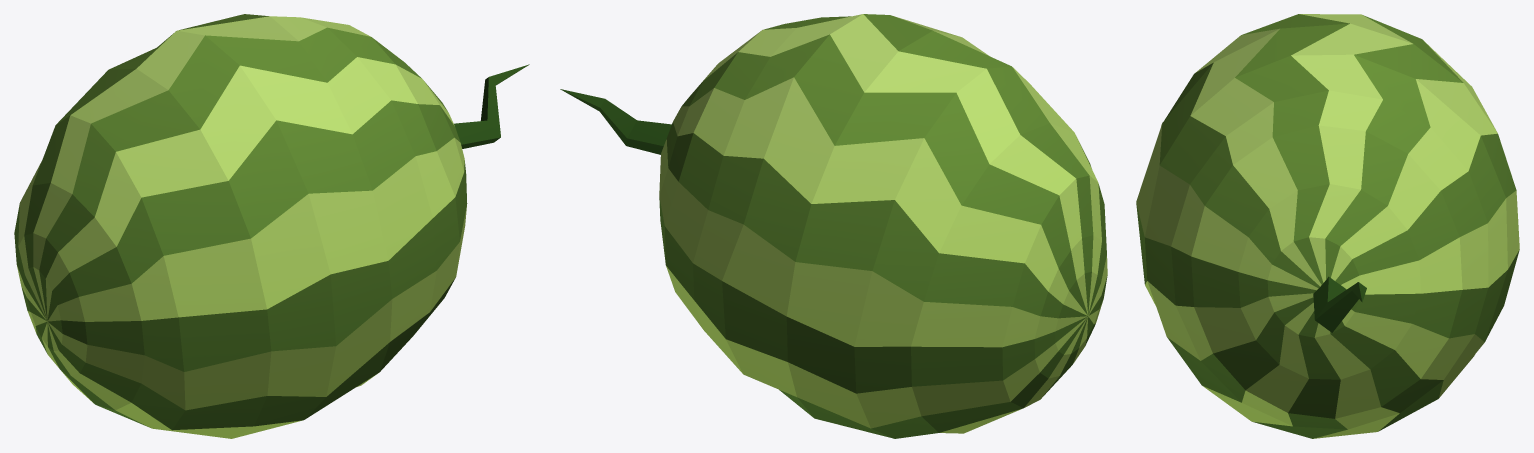
The model's file is watermelon.glb.
The picture shows the model from 3 angles, left to right: view 1: azimuth 30°, elevation 25°; view 2: azimuth 150°, elevation 25°; view 3: azimuth 270°, elevation 25°; orthographic projection.
Parts seen in each view (by area): view 1: watermelon; view 2: watermelon; view 3: watermelon.
Boxes of the visible parts, bbox=[...] form: watermelon: bbox=[14, 14, 529, 438]; watermelon: bbox=[560, 14, 1107, 438]; watermelon: bbox=[1136, 14, 1519, 438].
Bounding box in the file's own units: 0.6487 × 0.4657 × 0.4195.
Materials: 1 (1 with a texture image).
